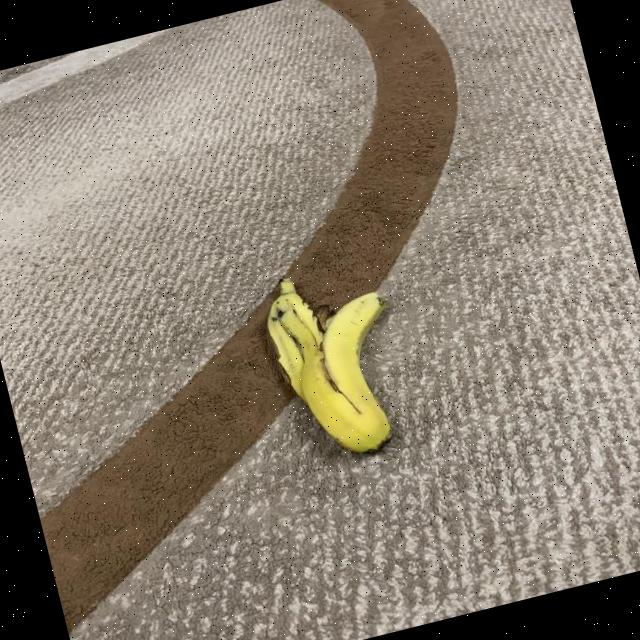banana-peel: (253, 254, 418, 470)
